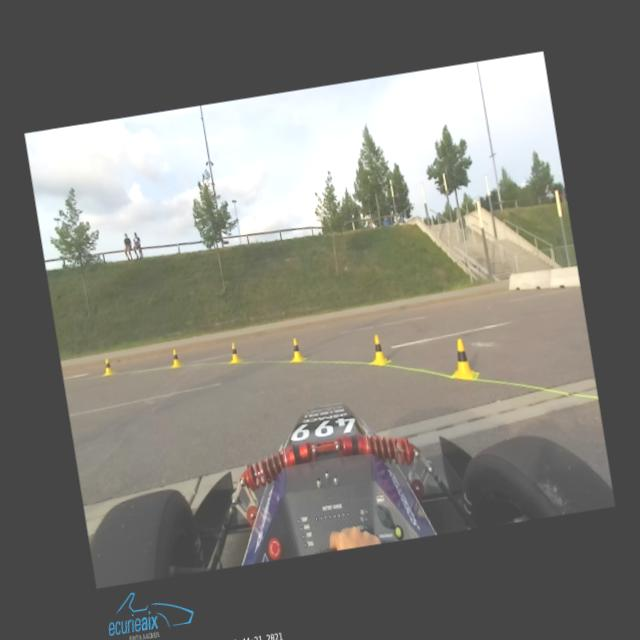yellow_cone: (448, 336, 478, 382), (368, 334, 388, 366), (289, 337, 304, 362), (228, 342, 240, 363), (170, 348, 181, 368), (102, 358, 113, 376)
